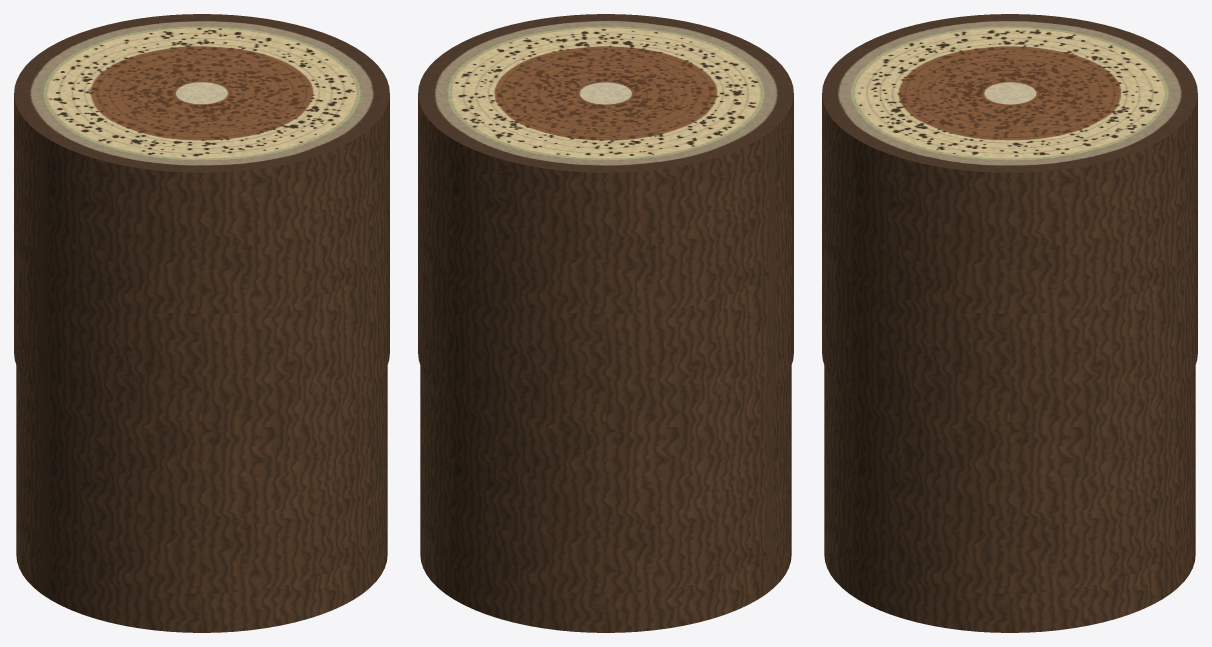
File: 10_stem_cross_section.glb
3 views of the same model, side by side, from view 1: azimuth 30°, elevation 25°; view 2: azimuth 150°, elevation 25°; view 3: azimuth 270°, elevation 25° (orthographic).
Parts seen in each view (by area): view 1: Stem_Cover, Stem_Continuation, Bark; view 2: Stem_Cover, Stem_Continuation, Bark; view 3: Stem_Cover, Stem_Continuation, Bark.
Boxes of the visible parts, <box> form: Stem_Cover: <box>14,14,389,432</box>; Stem_Continuation: <box>16,455,387,632</box>; Bark: <box>16,366,387,531</box>; Stem_Cover: <box>418,14,793,432</box>; Stem_Continuation: <box>420,455,791,632</box>; Bark: <box>420,366,791,531</box>; Stem_Cover: <box>822,14,1197,432</box>; Stem_Continuation: <box>824,455,1195,632</box>; Bark: <box>824,366,1195,531</box>.
Bounding box in the file's own units: 1.01 × 1.37 × 1.01.
8 materials, 7 textured.
